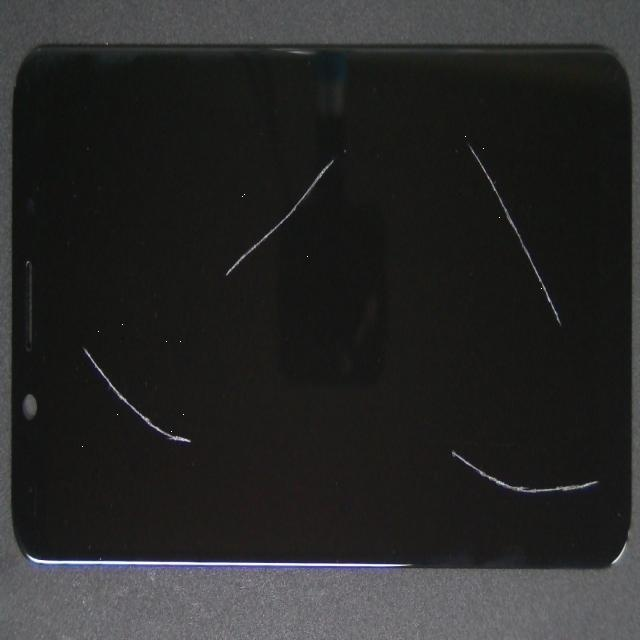scratch: (181, 0, 640, 297), (112, 99, 330, 419), (149, 266, 238, 588)
